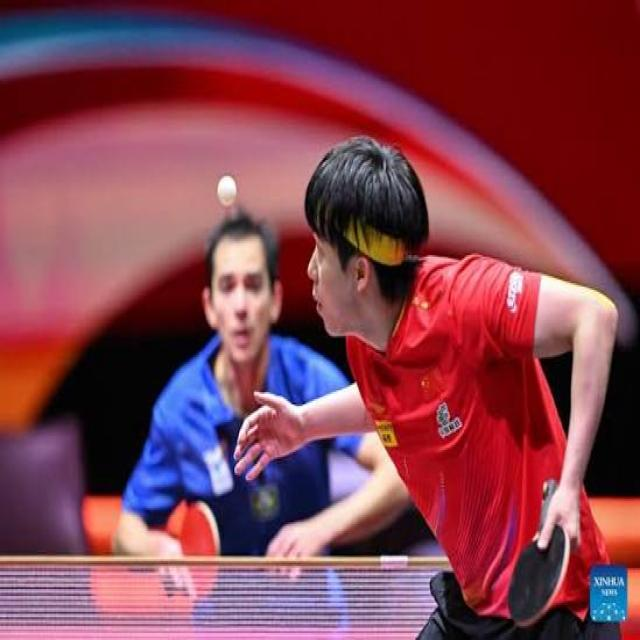TT Net: (1, 554, 595, 638)
TT Racket: (169, 482, 233, 616)
